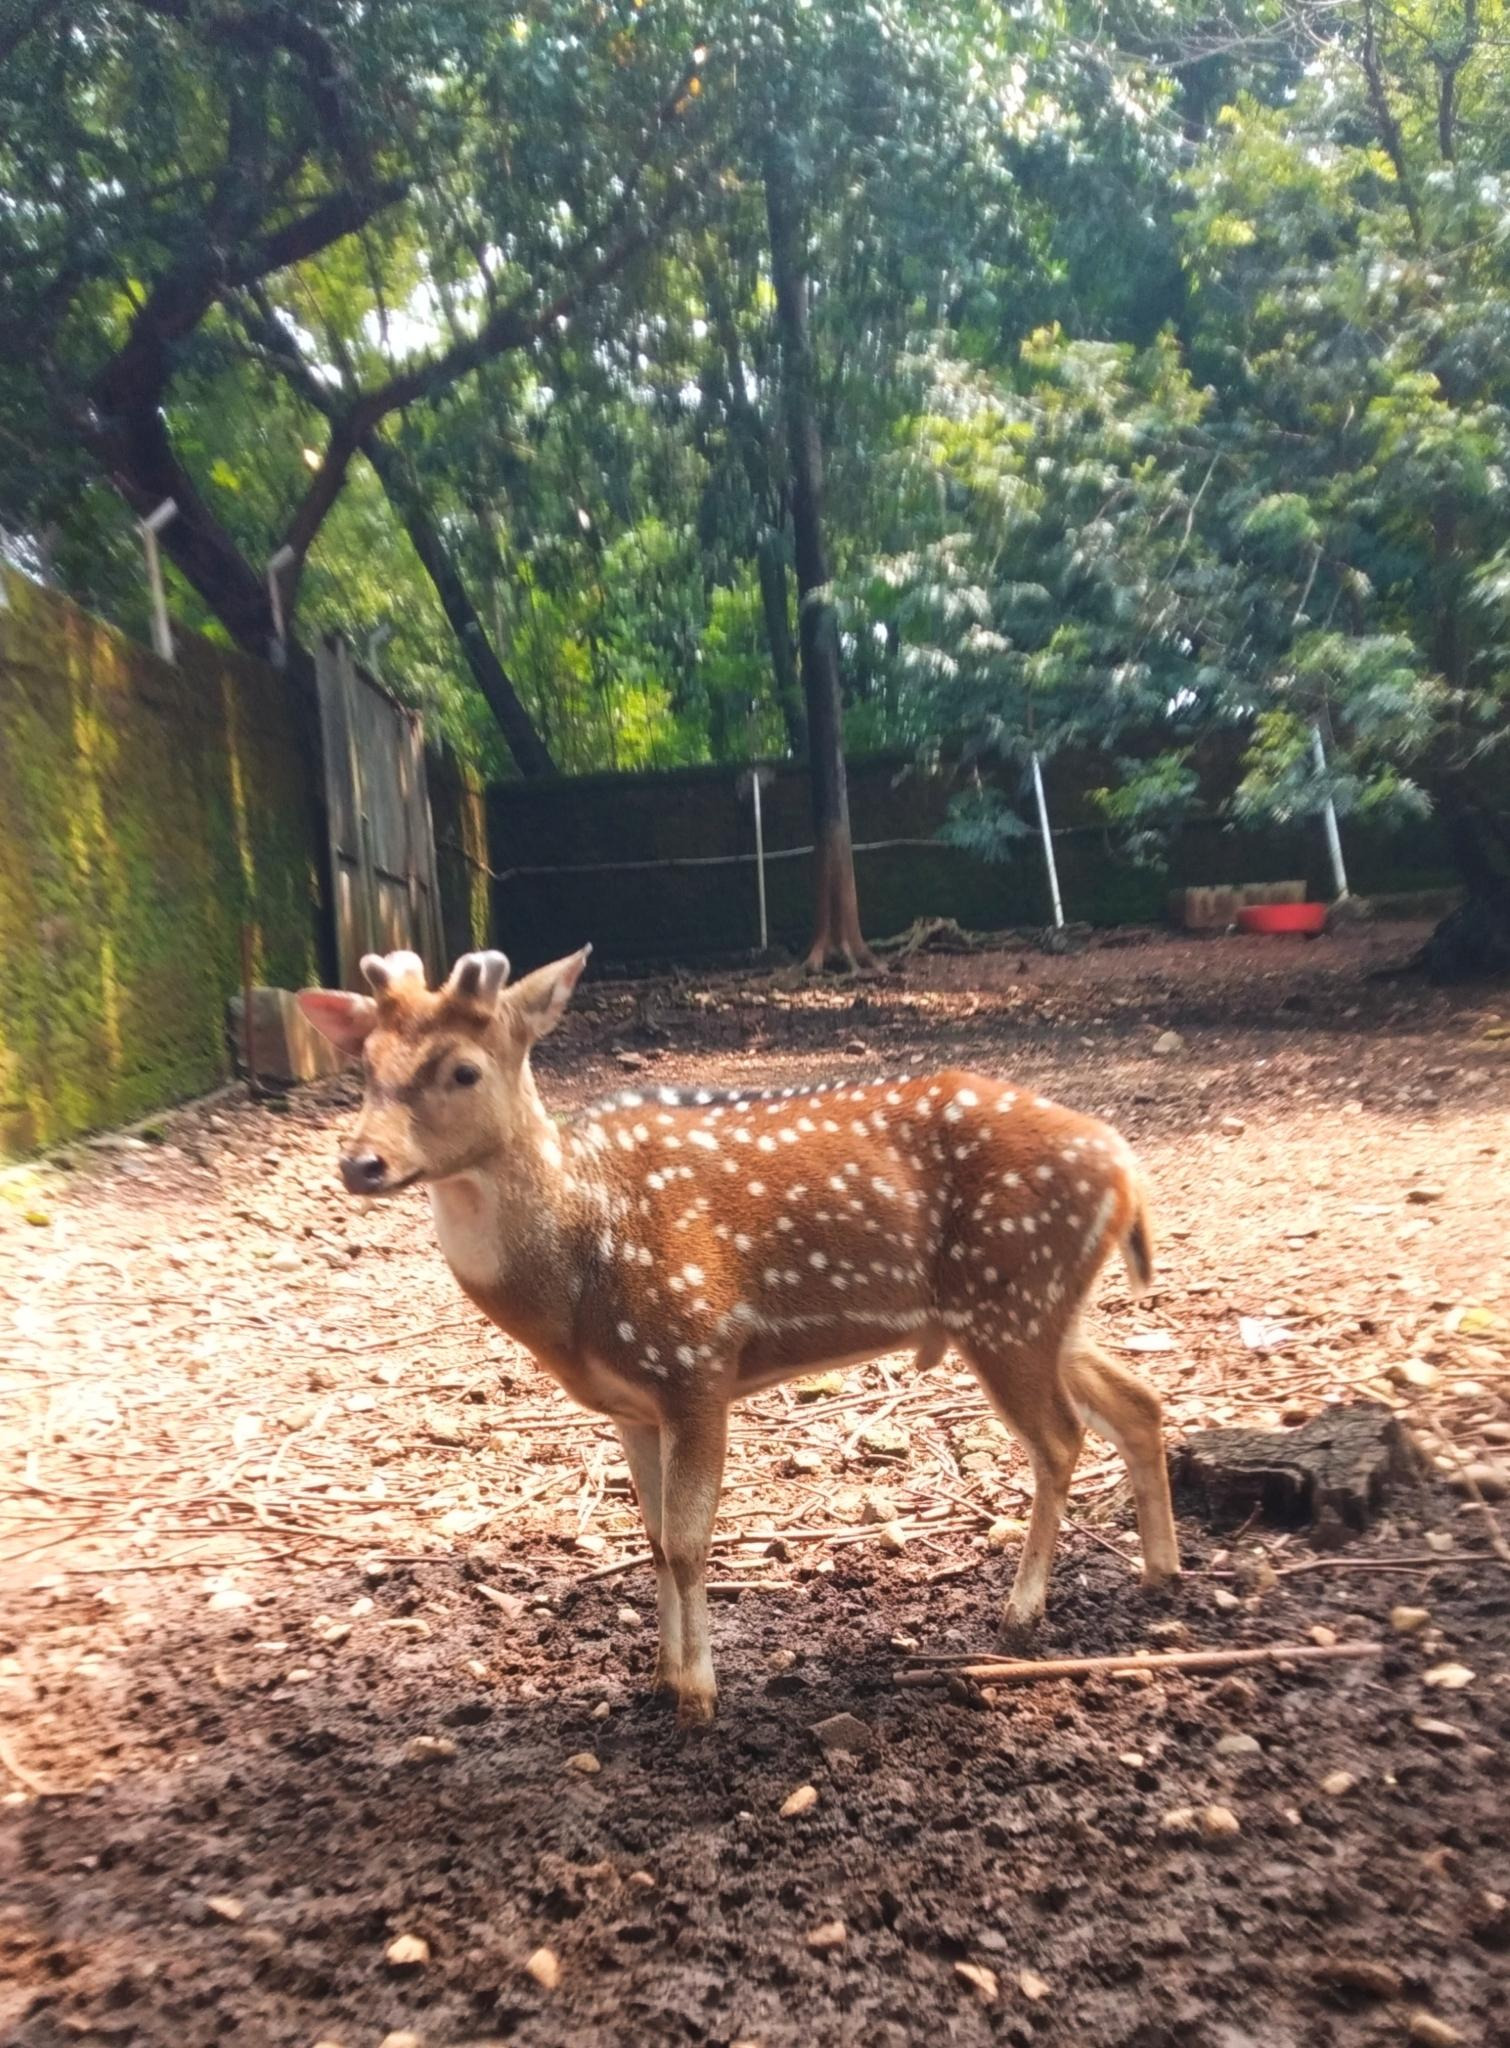Deer: (315, 948, 1178, 1722)
